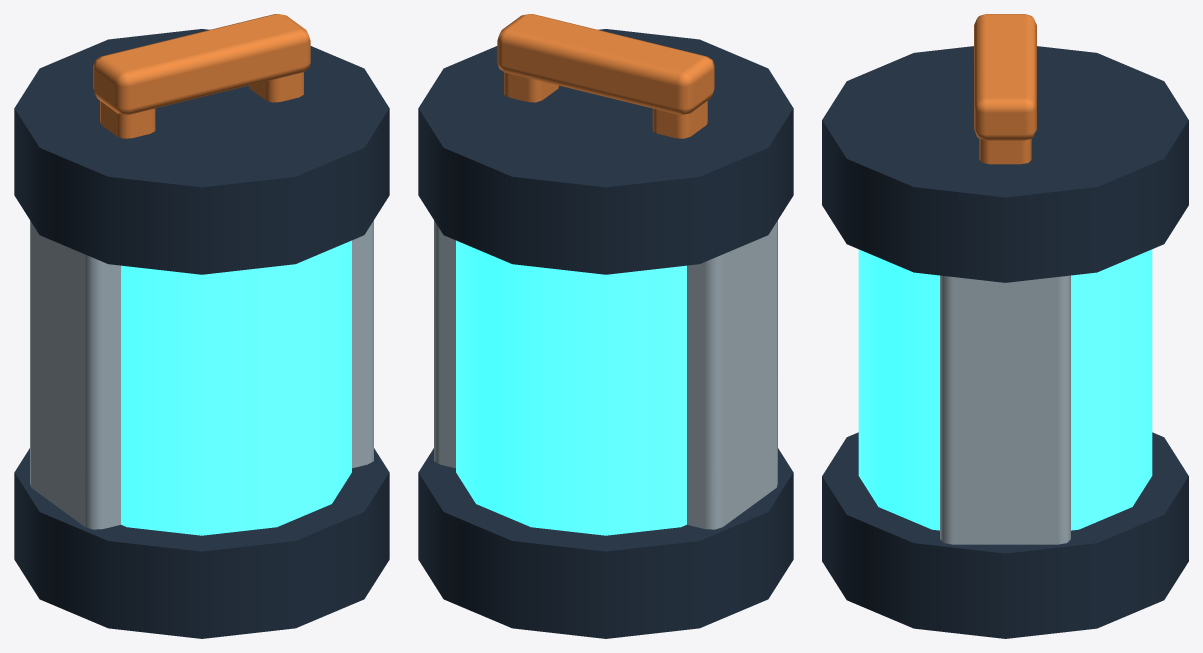
File: power-cell.glb
3 views of the same model, side by side, from view 1: azimuth 30°, elevation 25°; view 2: azimuth 150°, elevation 25°; view 3: azimuth 270°, elevation 25° (orthographic). The views are drawn at different scales.
Parts seen in each view (by area): view 1: cap-0.84, core, cap-0.09, guard--0.26, handle, guard-0.26, handle-post--0.16, handle-post-0.16; view 2: cap-0.84, core, cap-0.09, guard--0.26, handle, guard-0.26, handle-post--0.16, handle-post-0.16; view 3: cap-0.84, core, cap-0.09, guard-0.26, handle, handle-post-0.16.
Boxes of the visible parts, x1=… form: cap-0.84: x1=14, y1=29, x2=389, y2=274; core: x1=121, y1=240, x2=351, y2=535; cap-0.09: x1=14, y1=448, x2=389, y2=638; guard--0.26: x1=30, y1=220, x2=120, y2=529; handle: x1=93, y1=14, x2=310, y2=114; guard-0.26: x1=352, y1=220, x2=373, y2=468; handle-post--0.16: x1=100, y1=101, x2=155, y2=138; handle-post-0.16: x1=249, y1=72, x2=303, y2=102; cap-0.84: x1=418, y1=29, x2=793, y2=274; core: x1=456, y1=240, x2=686, y2=535; cap-0.09: x1=418, y1=448, x2=793, y2=638; guard--0.26: x1=687, y1=220, x2=777, y2=529; handle: x1=497, y1=14, x2=714, y2=114; guard-0.26: x1=434, y1=220, x2=455, y2=468; handle-post--0.16: x1=652, y1=101, x2=707, y2=138; handle-post-0.16: x1=504, y1=72, x2=558, y2=102; cap-0.84: x1=822, y1=46, x2=1188, y2=282; core: x1=858, y1=249, x2=1152, y2=530; cap-0.09: x1=822, y1=432, x2=1188, y2=638; guard-0.26: x1=940, y1=275, x2=1070, y2=544; handle: x1=974, y1=14, x2=1036, y2=140; handle-post-0.16: x1=979, y1=138, x2=1031, y2=164.
Size of the model in its own units: 0.7 by 1.07 by 0.7.
